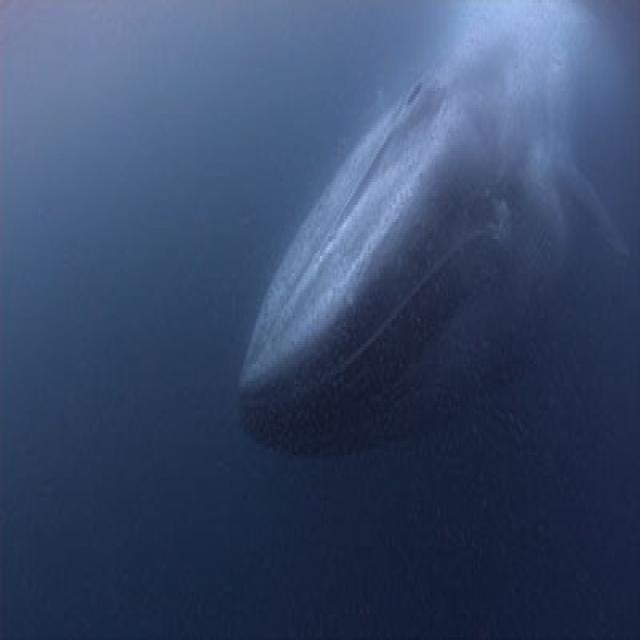blue_whale: (225, 0, 640, 486)
